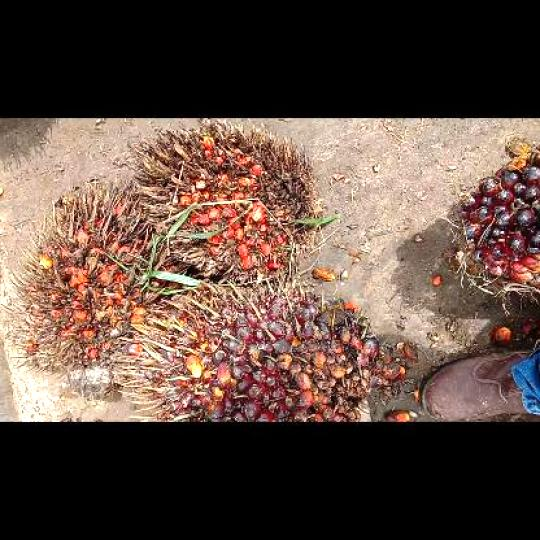masak: (111, 281, 395, 420)
terlalu masak: (7, 177, 172, 402), (128, 118, 321, 287)
